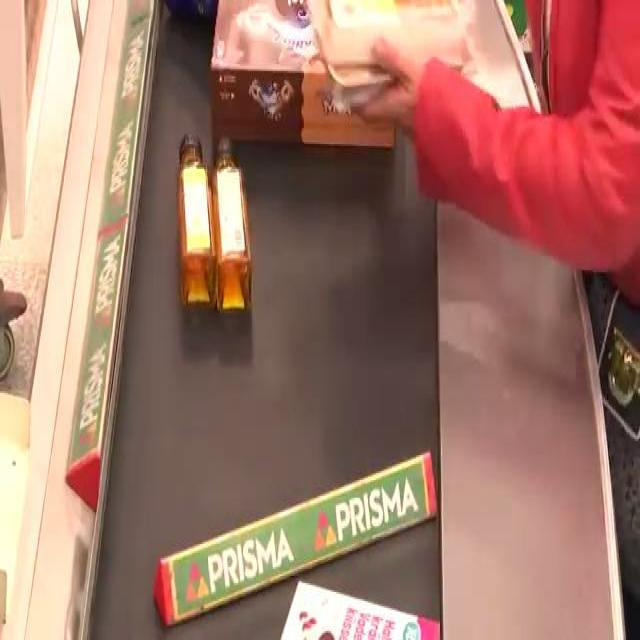food-box: (208, 0, 402, 142), (327, 0, 472, 110)
utility-box: (279, 578, 448, 640), (212, 136, 260, 321), (179, 140, 215, 310)
